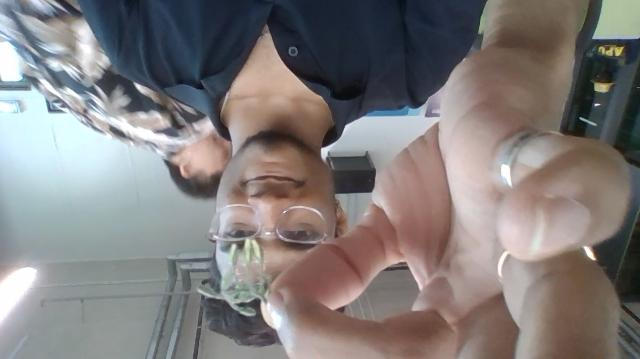Flower Bud: (221, 240, 238, 292), (196, 283, 228, 299), (230, 241, 242, 273), (249, 238, 262, 262), (243, 240, 252, 265)
